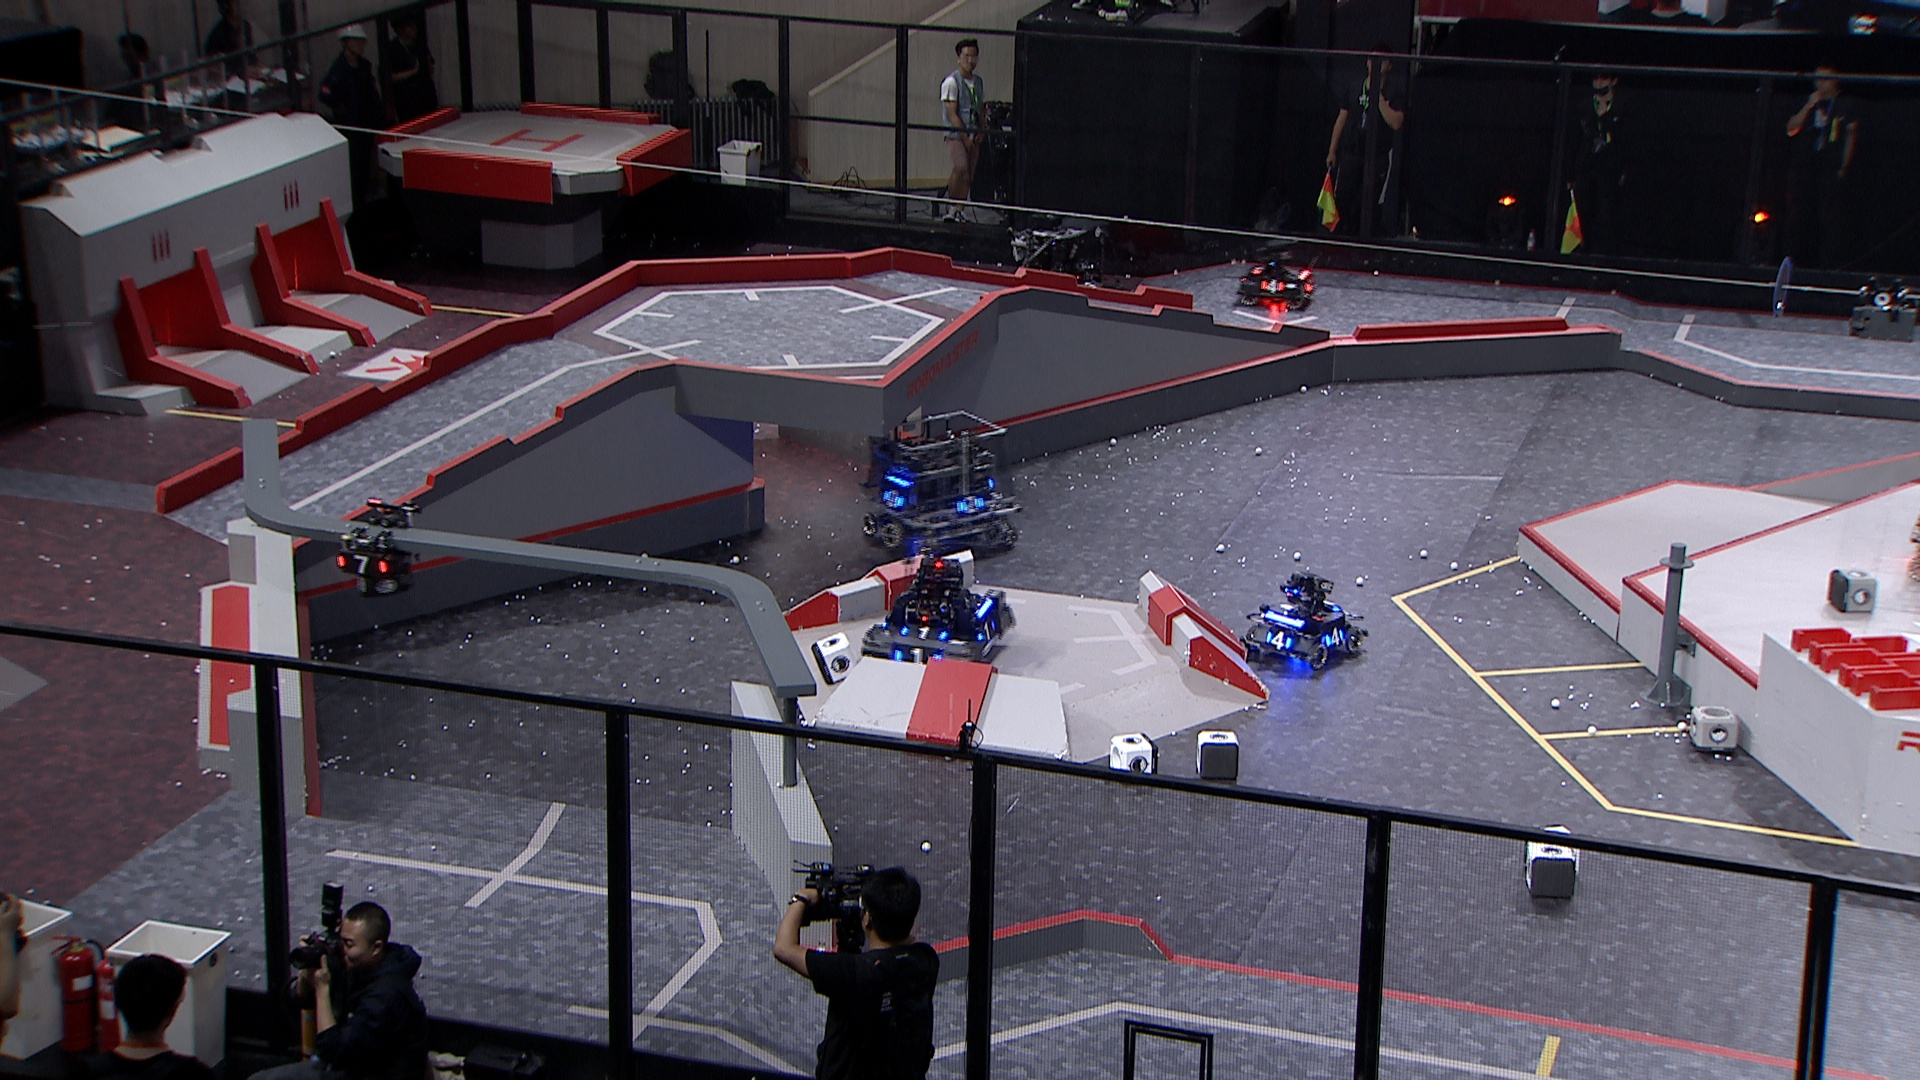armor: (334, 553, 390, 578), (901, 624, 948, 644), (891, 647, 942, 666), (1265, 628, 1294, 655), (953, 493, 986, 517), (1259, 276, 1288, 295), (1325, 622, 1346, 647), (978, 618, 998, 644), (884, 488, 906, 509), (1083, 280, 1106, 290)
car: (860, 407, 1021, 559), (858, 555, 1015, 670), (1240, 570, 1371, 673), (1010, 220, 1116, 309), (1234, 239, 1315, 313)
watcher: (330, 498, 422, 600)
